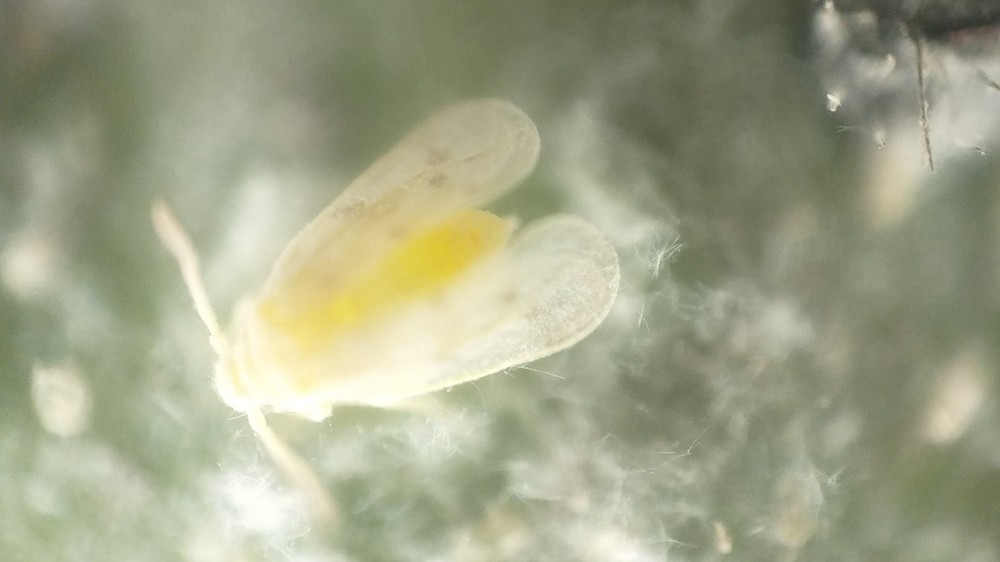Mosca Blanca: (145, 92, 635, 542)
